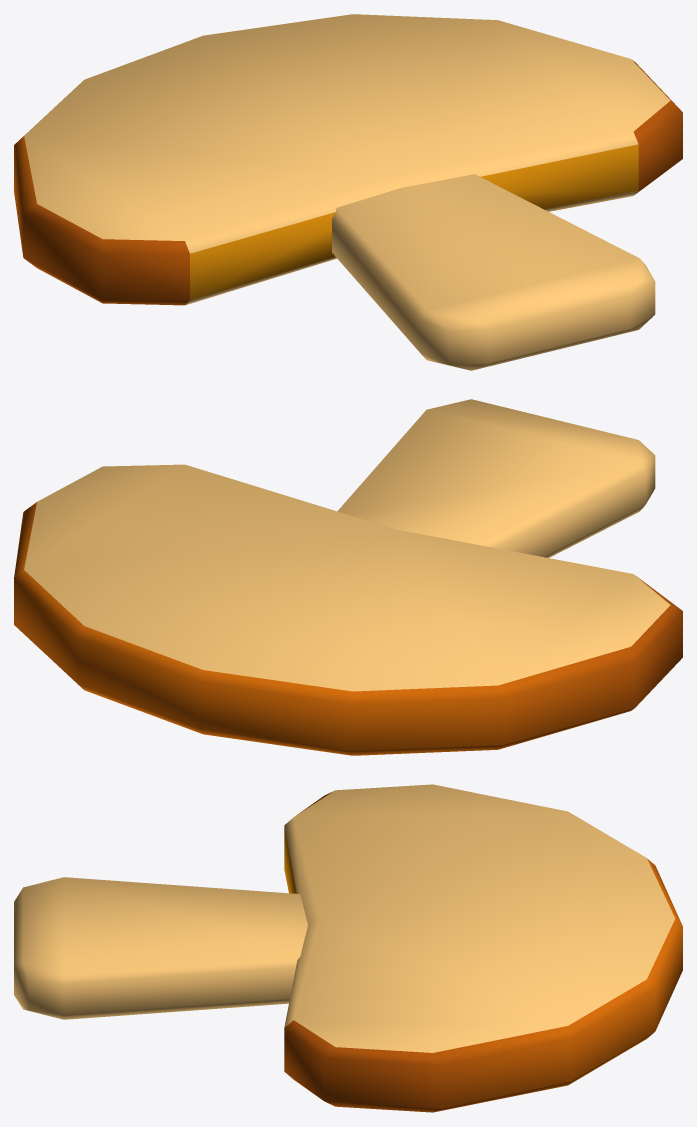
File: Mushroom_slice_01.002.fbx
3 views of the same model, one above another, from view 1: azimuth 30°, elevation 25°; view 2: azimuth 150°, elevation 25°; view 3: azimuth 270°, elevation 25° (orthographic). The views are drawn at different scales.
Parts seen in each view (by area): view 1: Mushroom_slice_01.002; view 2: Mushroom_slice_01.002; view 3: Mushroom_slice_01.002.
Part boxes in pixels (x1,y1,x2,y2): Mushroom_slice_01.002: (14,14,682,370); Mushroom_slice_01.002: (14,399,682,755); Mushroom_slice_01.002: (14,784,682,1112).
Size of the model in its own units: 43.36 by 44.31 by 4.35.
